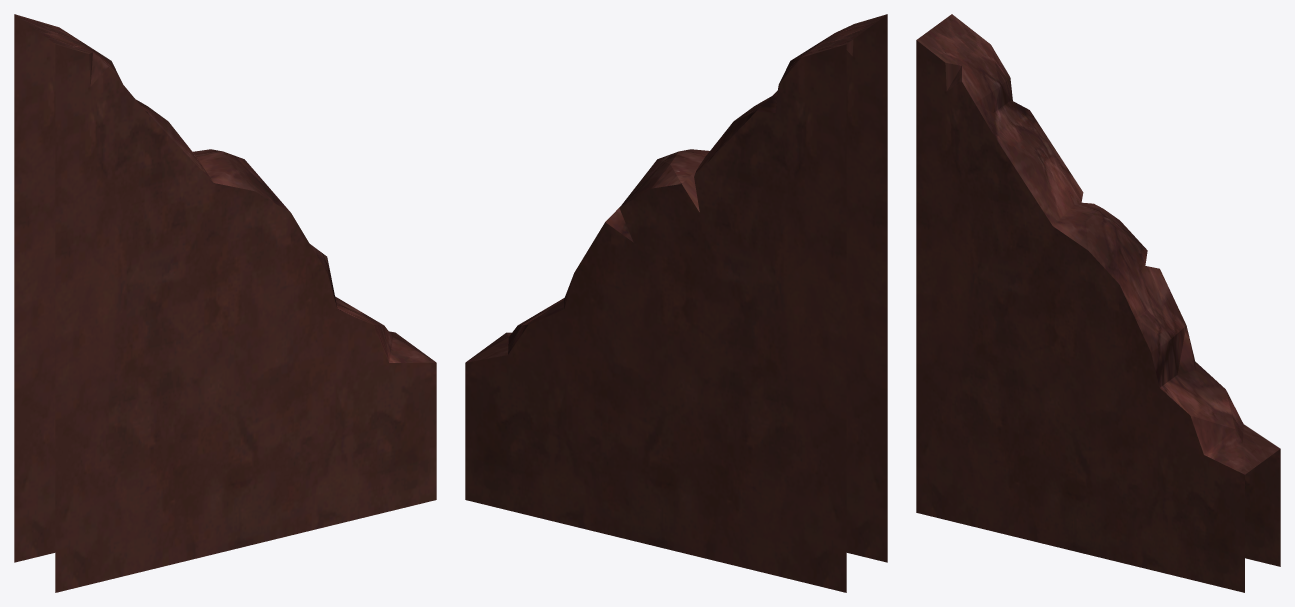
File: lava_broken_straight_05.fbx
3 renders of one model, left to right at view 1: azimuth 30°, elevation 25°; view 2: azimuth 150°, elevation 25°; view 3: azimuth 330°, elevation 25°, orthographic. The views are drawn at different scales.
Parts seen in each view (by area): view 1: obj1.059; view 2: obj1.059; view 3: obj1.059.
Boxes of the visible parts, left/top/right/bottom form: obj1.059: left=14, top=14, right=436, bottom=592; obj1.059: left=465, top=14, right=887, bottom=592; obj1.059: left=916, top=14, right=1280, bottom=592.
Bounding box in the file's own units: 4 × 5.5 × 0.75.
